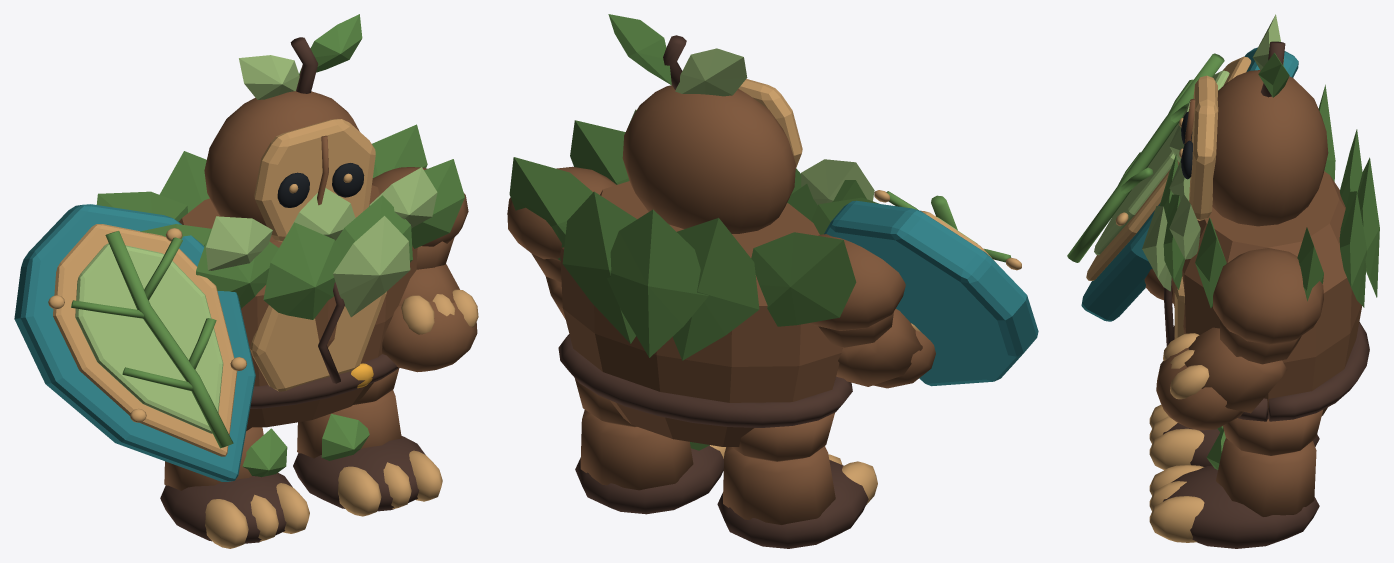
Rendered from mossguard.glb.
3 views of the same model, side by side, from view 1: azimuth 30°, elevation 25°; view 2: azimuth 150°, elevation 25°; view 3: azimuth 270°, elevation 25° (orthographic). The views are drawn at different scales.
Visible parts, largest first — view 1: ME_20261020_mossguard_mantle, ME_20261020_mossguard_shield_team_rim, ME_20261020_mossguard_shield_pressed_leaf, ME_20261020_mossguard_shield_heartwood, ME_20261020_mossguard_head_bough, ME_20261020_mossguard_pale_heartwood_face, ME_20261020_mossguard_chest_heartwood, ME_20261020_mossguard_bough_torso, ME_20261020_mossguard_chest_leaf, ME_20261020_mossguard_left_root_foot, ME_20261020_mossguard_right_root_fist, ME_20261020_mossguard_right_root_foot (+30 smaller); view 2: ME_20261020_mossguard_mantle, ME_20261020_mossguard_bough_torso, ME_20261020_mossguard_head_bough, ME_20261020_mossguard_shield_team_rim, ME_20261020_mossguard_back_leaf, ME_20261020_mossguard_root_belt, ME_20261020_mossguard_left_root_shin, ME_20261020_mossguard_right_root_shin, ME_20261020_mossguard_left_root_foot, ME_20261020_mossguard_right_root_foot, ME_20261020_mossguard_left_shoulder_knot, ME_20261020_mossguard_left_forearm (+11 smaller); view 3: ME_20261020_mossguard_head_bough, ME_20261020_mossguard_bough_torso, ME_20261020_mossguard_right_shoulder_knot, ME_20261020_mossguard_mantle, ME_20261020_mossguard_right_root_shin, ME_20261020_mossguard_right_root_foot, ME_20261020_mossguard_right_forearm, ME_20261020_mossguard_shield_team_rim, ME_20261020_mossguard_root_belt, ME_20261020_mossguard_pale_heartwood_face, ME_20261020_mossguard_shield_leaf_spine, ME_20261020_mossguard_right_thigh (+21 smaller).
Boxes of the visible parts, x1,y1,x2,y2 form: ME_20261020_mossguard_mantle: [96, 124, 464, 319]; ME_20261020_mossguard_shield_team_rim: [14, 204, 255, 481]; ME_20261020_mossguard_shield_pressed_leaf: [75, 243, 223, 433]; ME_20261020_mossguard_shield_heartwood: [53, 224, 237, 456]; ME_20261020_mossguard_head_bough: [204, 91, 359, 226]; ME_20261020_mossguard_pale_heartwood_face: [254, 119, 375, 242]; ME_20261020_mossguard_chest_heartwood: [250, 291, 386, 391]; ME_20261020_mossguard_bough_torso: [179, 185, 417, 427]; ME_20261020_mossguard_chest_leaf: [333, 216, 410, 317]; ME_20261020_mossguard_left_root_foot: [160, 473, 292, 543]; ME_20261020_mossguard_right_root_fist: [382, 300, 477, 372]; ME_20261020_mossguard_right_root_foot: [293, 435, 425, 511]; ME_20261020_mossguard_mantle: [509, 120, 879, 360]; ME_20261020_mossguard_bough_torso: [560, 181, 842, 446]; ME_20261020_mossguard_head_bough: [622, 85, 795, 233]; ME_20261020_mossguard_shield_team_rim: [824, 200, 1038, 386]; ME_20261020_mossguard_back_leaf: [607, 209, 708, 357]; ME_20261020_mossguard_root_belt: [558, 334, 852, 427]; ME_20261020_mossguard_left_root_shin: [723, 446, 835, 524]; ME_20261020_mossguard_right_root_shin: [580, 410, 693, 490]; ME_20261020_mossguard_left_root_foot: [717, 460, 868, 548]; ME_20261020_mossguard_right_root_foot: [575, 445, 723, 514]; ME_20261020_mossguard_left_shoulder_knot: [809, 234, 905, 330]; ME_20261020_mossguard_left_forearm: [836, 309, 922, 386]; ME_20261020_mossguard_head_bough: [1212, 70, 1328, 226]; ME_20261020_mossguard_bough_torso: [1172, 171, 1361, 418]; ME_20261020_mossguard_right_shoulder_knot: [1213, 248, 1323, 344]; ME_20261020_mossguard_mantle: [1159, 84, 1366, 307]; ME_20261020_mossguard_right_root_shin: [1216, 438, 1316, 516]; ME_20261020_mossguard_right_root_foot: [1163, 465, 1319, 548]; ME_20261020_mossguard_right_forearm: [1184, 327, 1287, 413]; ME_20261020_mossguard_shield_team_rim: [1081, 47, 1298, 321]; ME_20261020_mossguard_root_belt: [1173, 322, 1369, 421]; ME_20261020_mossguard_pale_heartwood_face: [1189, 75, 1218, 220]; ME_20261020_mossguard_shield_leaf_spine: [1067, 53, 1224, 262]; ME_20261020_mossguard_right_thigh: [1223, 410, 1322, 455].
Size of the model in its own units: 1.04 by 1 by 0.5896.
